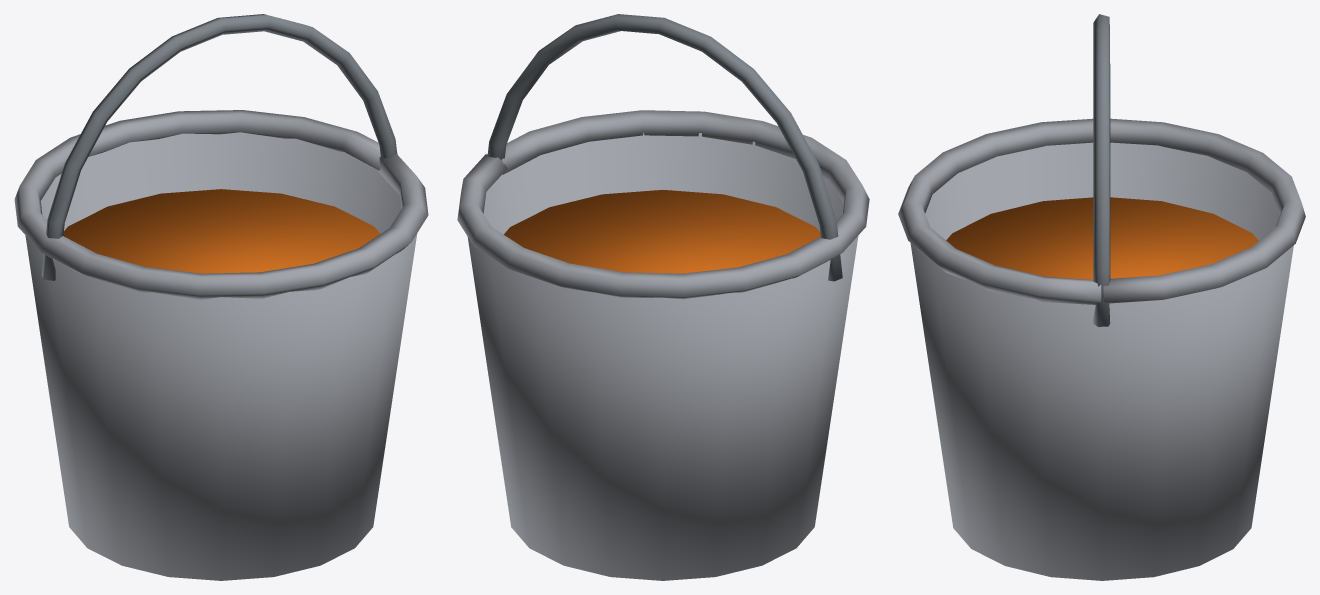
Rendered from orange_paint.glb.
3 views of the same model, side by side, from view 1: azimuth 30°, elevation 25°; view 2: azimuth 150°, elevation 25°; view 3: azimuth 270°, elevation 25° (orthographic).
Visible parts, largest first — view 1: orange_paint_v0; view 2: orange_paint_v0; view 3: orange_paint_v0.
Boxes of the visible parts, <box> form: orange_paint_v0: <box>14,14,428,580</box>; orange_paint_v0: <box>457,14,869,580</box>; orange_paint_v0: <box>898,14,1305,580</box>.
Size of the model in its own units: 0.2696 by 0.3556 by 0.2693.
